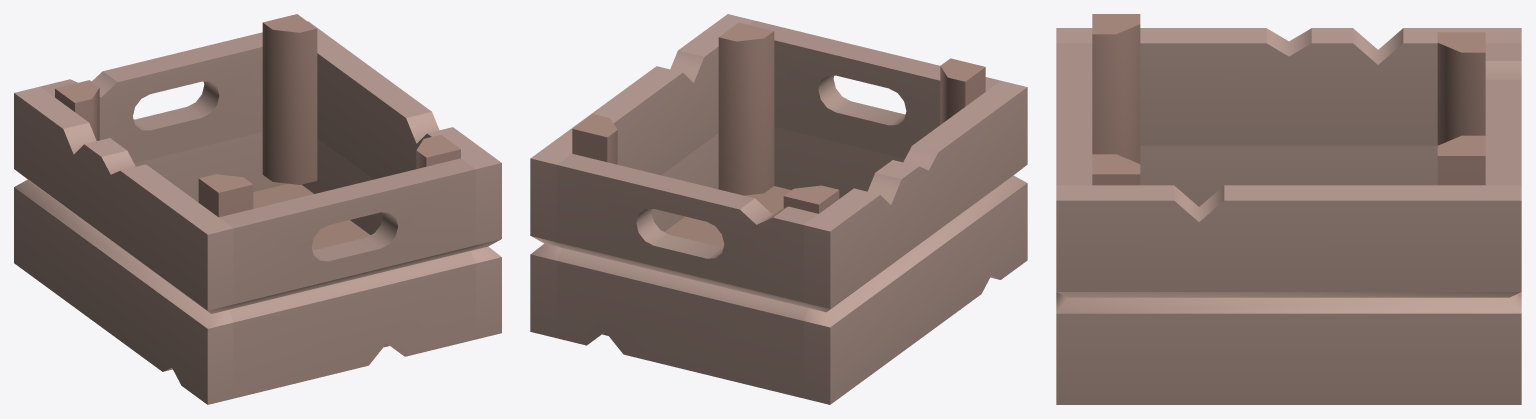
Rendered from crate-wooden-tidy-old.glb.
The picture shows the model from 3 angles, left to right: view 1: azimuth 30°, elevation 25°; view 2: azimuth 150°, elevation 25°; view 3: azimuth 270°, elevation 25°; orthographic projection. The views are drawn at different scales.
Visible parts, largest first — view 1: crate-wooden-tidy-old; view 2: crate-wooden-tidy-old; view 3: crate-wooden-tidy-old.
Boxes of the visible parts, left/top/right/bottom form: crate-wooden-tidy-old: left=14, top=14, right=501, bottom=404; crate-wooden-tidy-old: left=530, top=14, right=1027, bottom=404; crate-wooden-tidy-old: left=1056, top=14, right=1521, bottom=404.
Size of the model in its own units: 0.34 by 0.215 by 0.3878.
